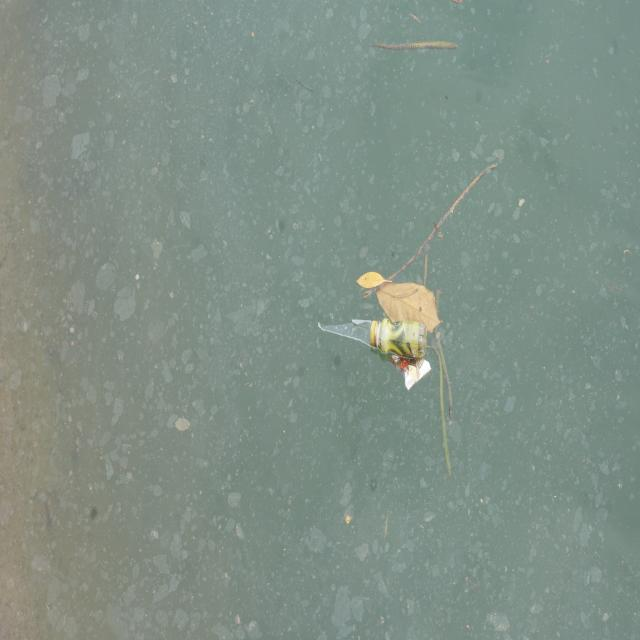Botol Plastik: (368, 317, 428, 363)
Bungkus Makanan: (388, 347, 434, 394)
